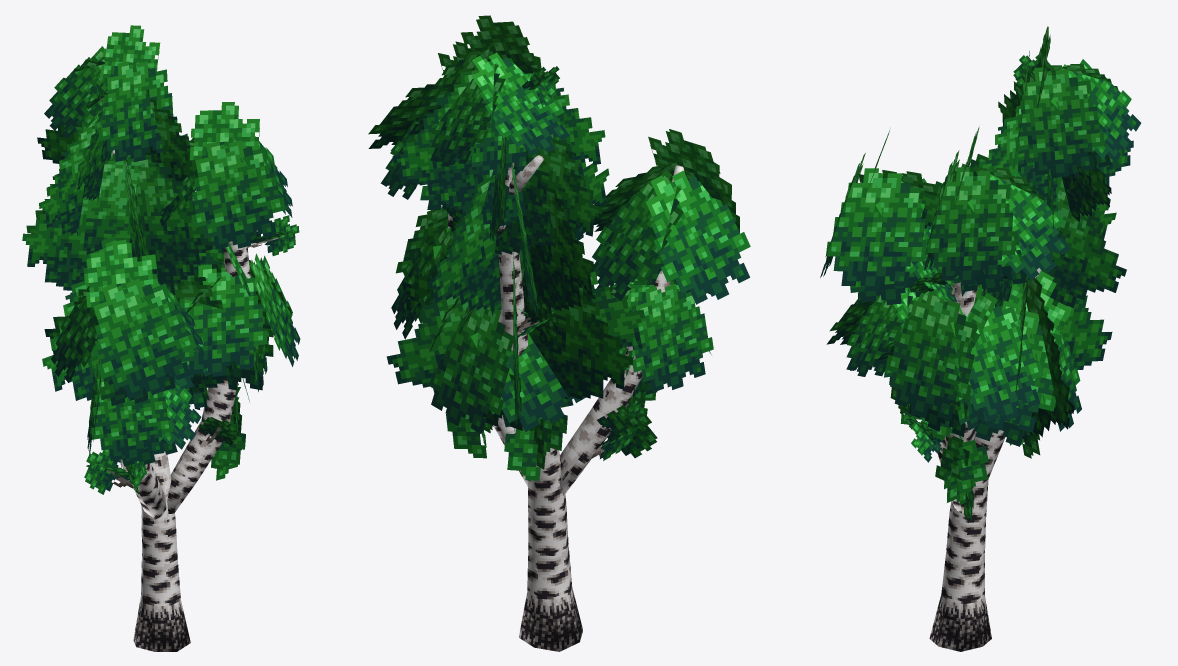
File: birch.glb
3 views of the same model, side by side, from view 1: azimuth 30°, elevation 25°; view 2: azimuth 150°, elevation 25°; view 3: azimuth 270°, elevation 25° (orthographic). The views are drawn at different scales.
Visible parts, largest first — view 1: birch_texture.028, Cylinder, branch.007, birch_texture.006, branch.008, branch.002; view 2: birch_texture.028, Cylinder, birch_texture.013, branch.007, birch_texture.006, branch.004, branch.001; view 3: birch_texture.028, Cylinder, birch_texture.006, branch.002, branch.008.
Boxes of the visible parts, x1,y1,x2,y2 form: birch_texture.028: (22, 25, 300, 467); Cylinder: (98, 150, 250, 651); branch.007: (84, 449, 133, 494); birch_texture.006: (211, 383, 245, 480); branch.008: (247, 215, 299, 255); branch.002: (198, 414, 239, 444); birch_texture.028: (368, 15, 750, 434); Cylinder: (448, 155, 684, 651); birch_texture.013: (504, 406, 567, 480); branch.007: (591, 405, 657, 460); birch_texture.006: (446, 414, 493, 458); branch.004: (517, 301, 558, 343); branch.001: (522, 66, 559, 108); birch_texture.028: (820, 26, 1141, 446); Cylinder: (929, 268, 1041, 651); birch_texture.006: (935, 435, 988, 521); branch.002: (905, 415, 942, 462); branch.008: (910, 267, 957, 301).
Bounding box in the file's own units: 8.52 × 15.39 × 8.06.
1 material, 1 textured.
